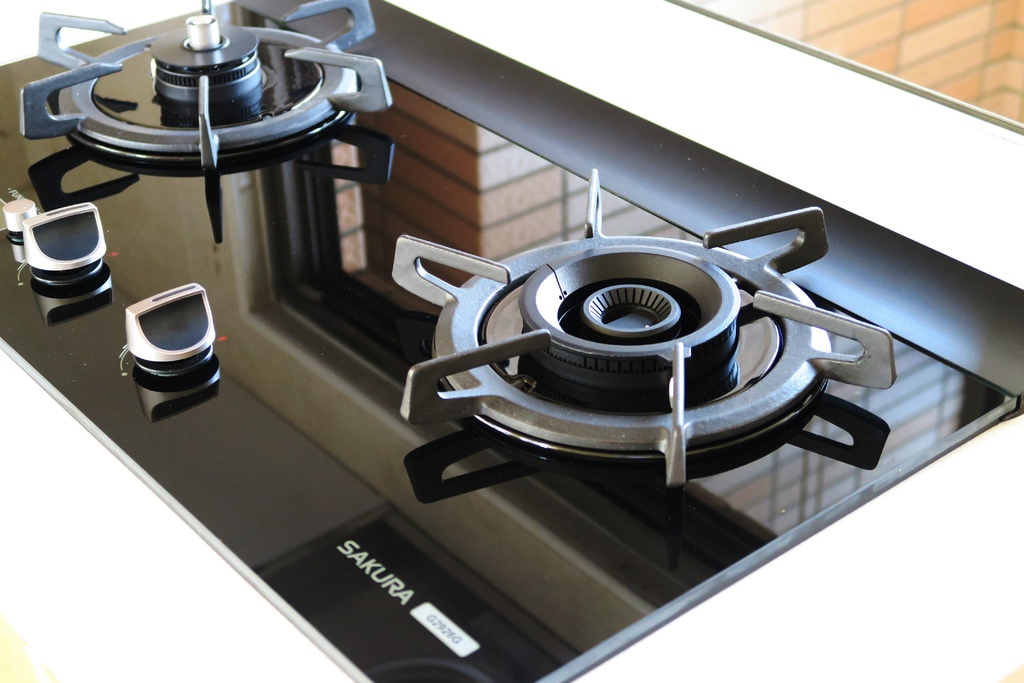gasoven: (1, 2, 1023, 683)
